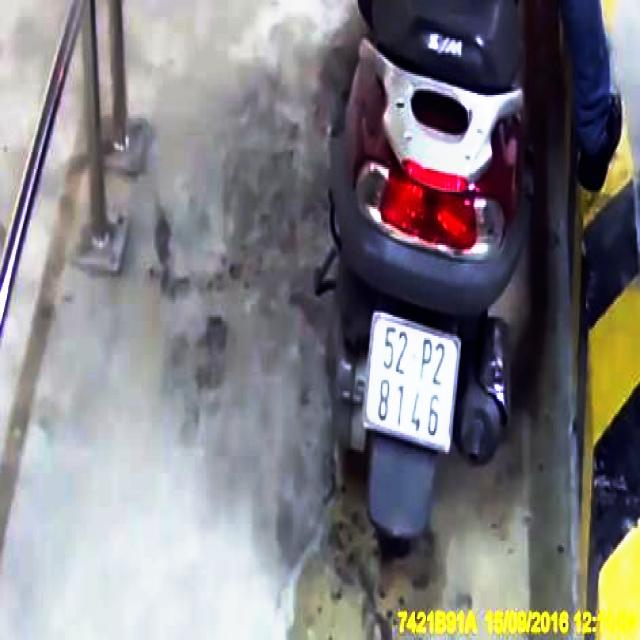license_plate: (366, 315, 460, 453)
